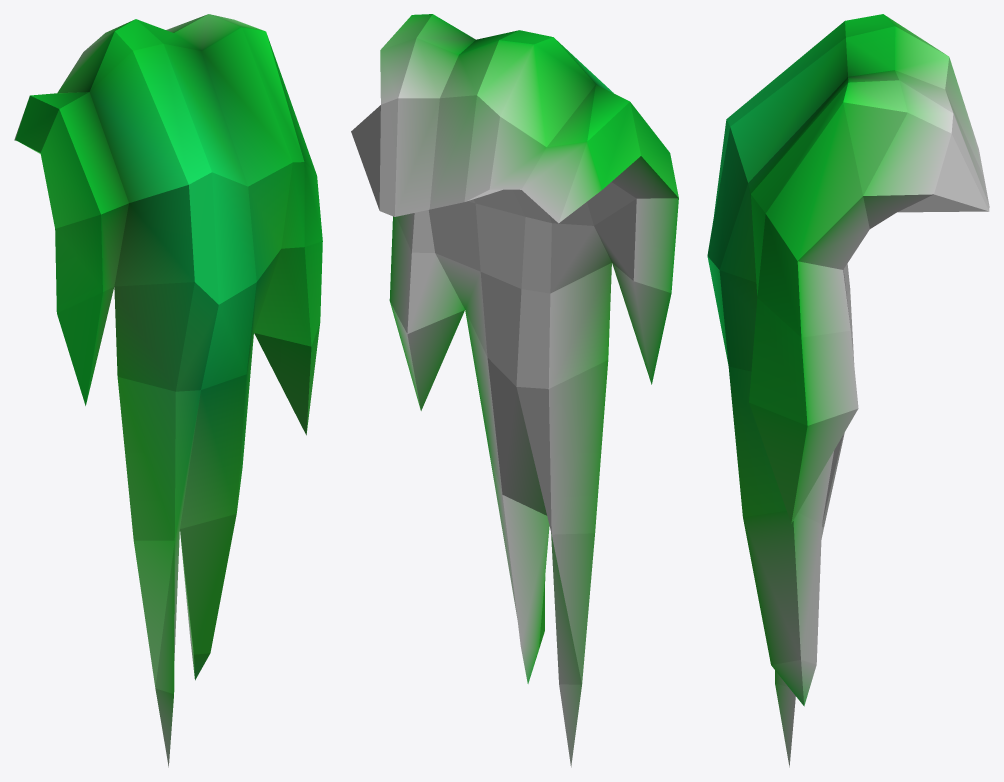
The model's file is hangingCreeperLong.fbx.
The picture shows the model from 3 angles, left to right: view 1: azimuth 30°, elevation 25°; view 2: azimuth 150°, elevation 25°; view 3: azimuth 270°, elevation 25°; orthographic projection. The views are drawn at different scales.
Parts seen in each view (by area): view 1: hangingCreeperLong; view 2: hangingCreeperLong; view 3: hangingCreeperLong.
Boxes of the visible parts, x1=… form: hangingCreeperLong: x1=14, y1=14, x2=322, y2=767; hangingCreeperLong: x1=351, y1=14, x2=678, y2=767; hangingCreeperLong: x1=707, y1=14, x2=989, y2=767.
Bounding box in the file's own units: 111 × 282 × 96.14.
